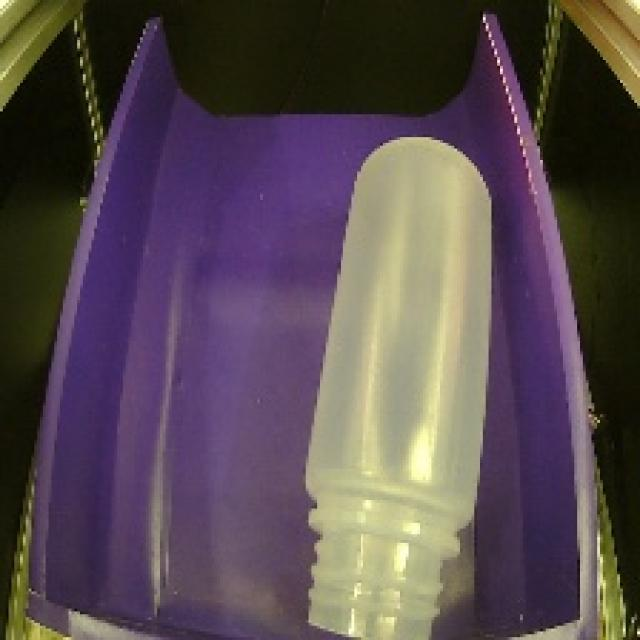plastic: (292, 120, 518, 640)
